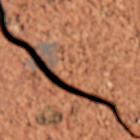broken_brick: (2, 0, 139, 135), (0, 32, 136, 139)
crack: (0, 0, 139, 139)
